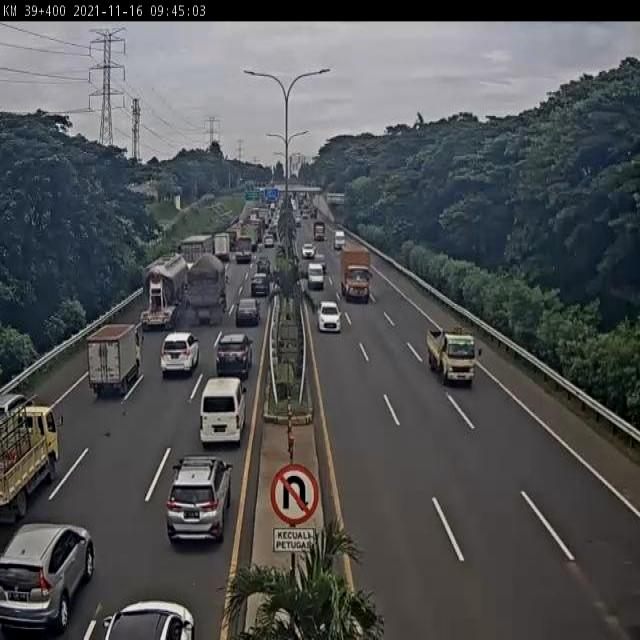Car: (0, 522, 95, 634), (164, 454, 235, 545), (96, 598, 198, 639), (214, 331, 254, 380), (160, 331, 200, 377), (317, 302, 342, 334), (235, 298, 261, 326), (307, 262, 325, 291), (250, 271, 270, 297), (257, 256, 271, 276), (302, 242, 315, 259), (334, 230, 345, 250), (264, 233, 274, 247)
Truck: (0, 402, 63, 520), (87, 322, 142, 396), (181, 254, 229, 324), (427, 325, 478, 387), (338, 245, 372, 302), (236, 233, 253, 266), (214, 234, 231, 260)
Van: (199, 376, 247, 444)
